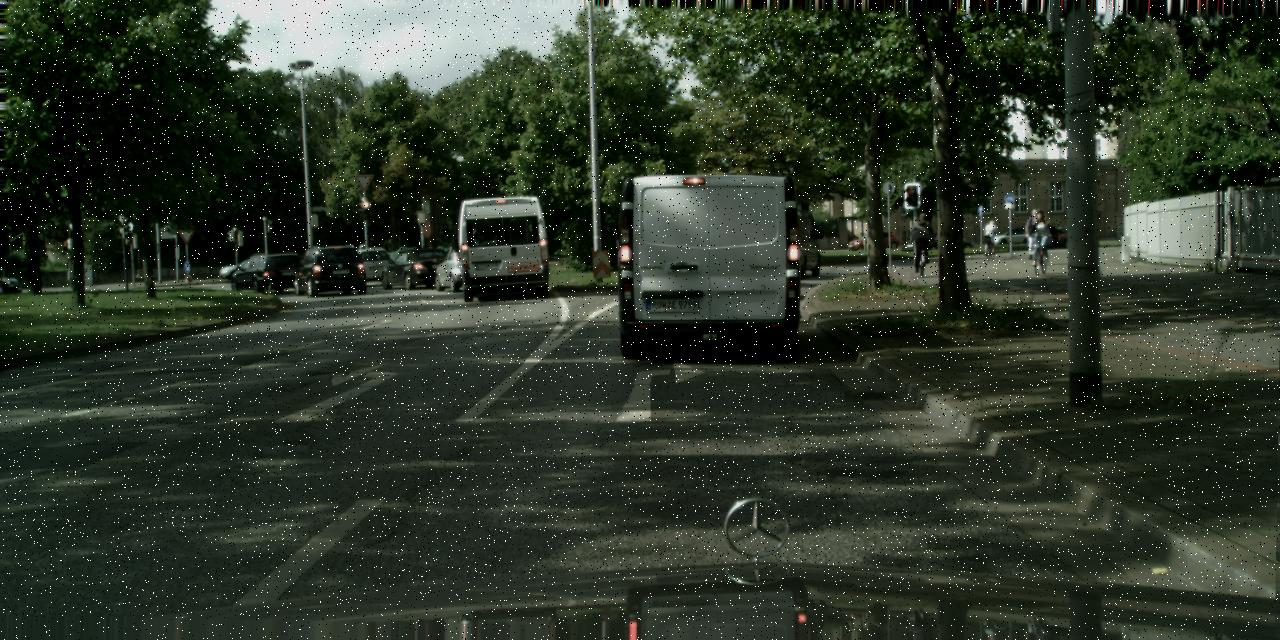ped: (1028, 208, 1050, 264), (912, 213, 932, 267), (1023, 208, 1044, 258), (983, 219, 997, 254)
